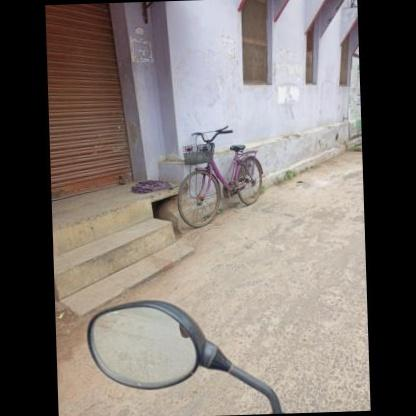Bicycle: (168, 116, 275, 240)
